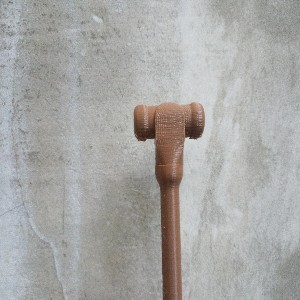palu: (134, 101, 205, 300)
